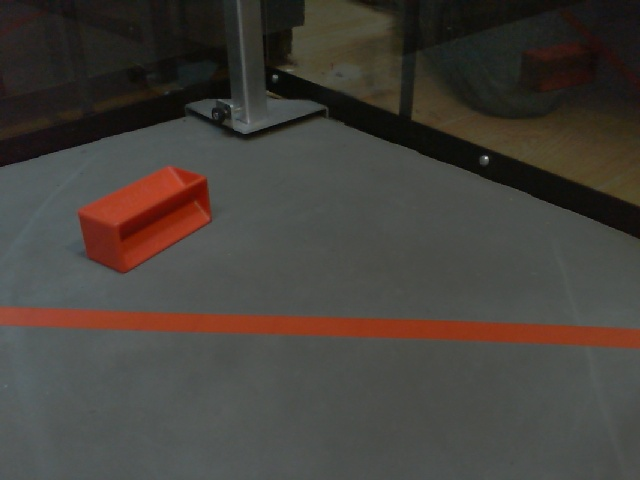RedSample: (76, 165, 214, 275)
